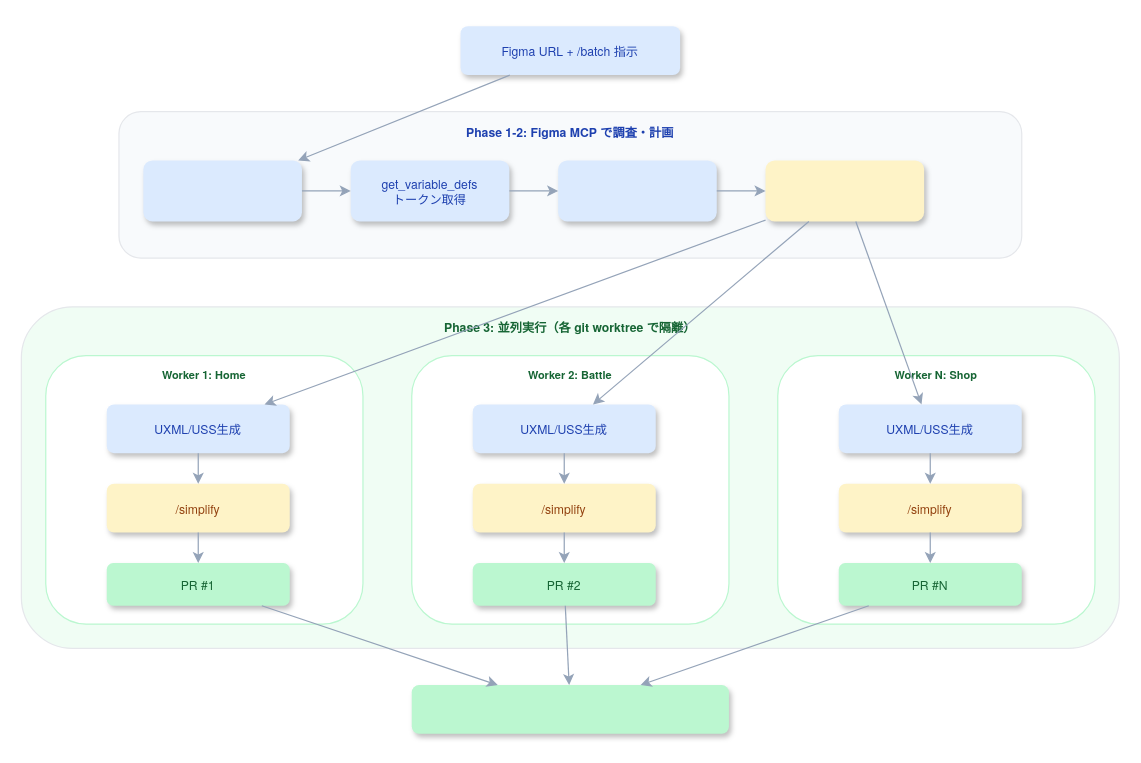
This 1141x763 diagram has some shape labels left out. The centre of each missing label's shape, as x and y in pixels:
get_metadata 全画面取得: [223,192]
ユニット分解: [638,192]
ユーザー承認: [845,192]
結果: N個のPR URL一覧: [571,711]
